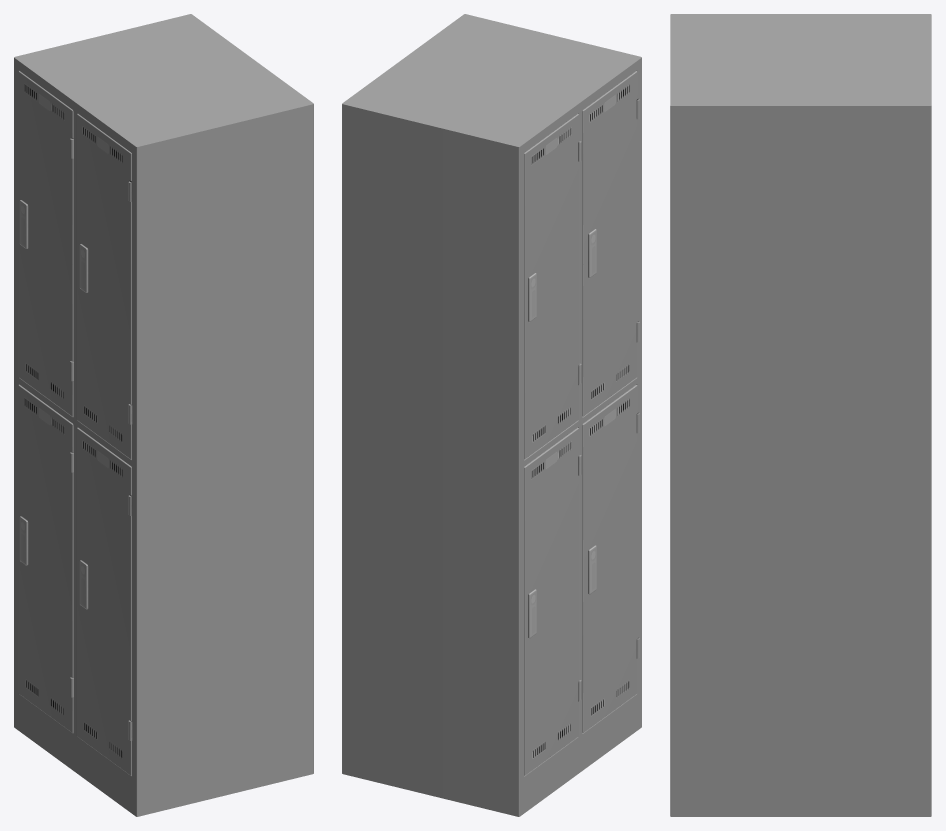
The model's file is SM_Lockers_02.fbx.
3 renders of one model, left to right at view 1: azimuth 30°, elevation 25°; view 2: azimuth 150°, elevation 25°; view 3: azimuth 270°, elevation 25°, orthographic. The views are drawn at different scales.
Parts seen in each view (by area): view 1: SM_Lockers_02_LOD0; view 2: SM_Lockers_02_LOD0; view 3: SM_Lockers_02_LOD0.
Part boxes in pixels (x1,y1,x2,y2): SM_Lockers_02_LOD0: [14, 14, 313, 816]; SM_Lockers_02_LOD0: [342, 14, 641, 816]; SM_Lockers_02_LOD0: [670, 14, 931, 816].
Bounding box in the file's own units: 50.72 × 60 × 180.
